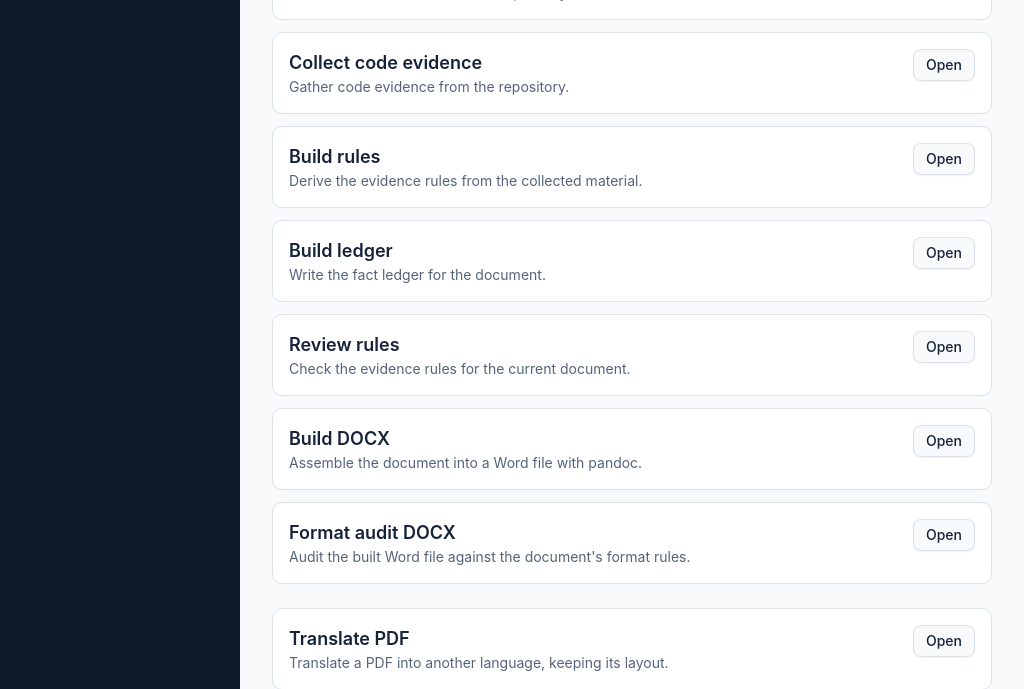
tools area › reviews rules with a strict toggle and lists the issues
The image size is (1024, 689).
(page scrolled)
Click the button "Open" in the row of "Review rules". click: (944,347)
box: [913,331,975,363]
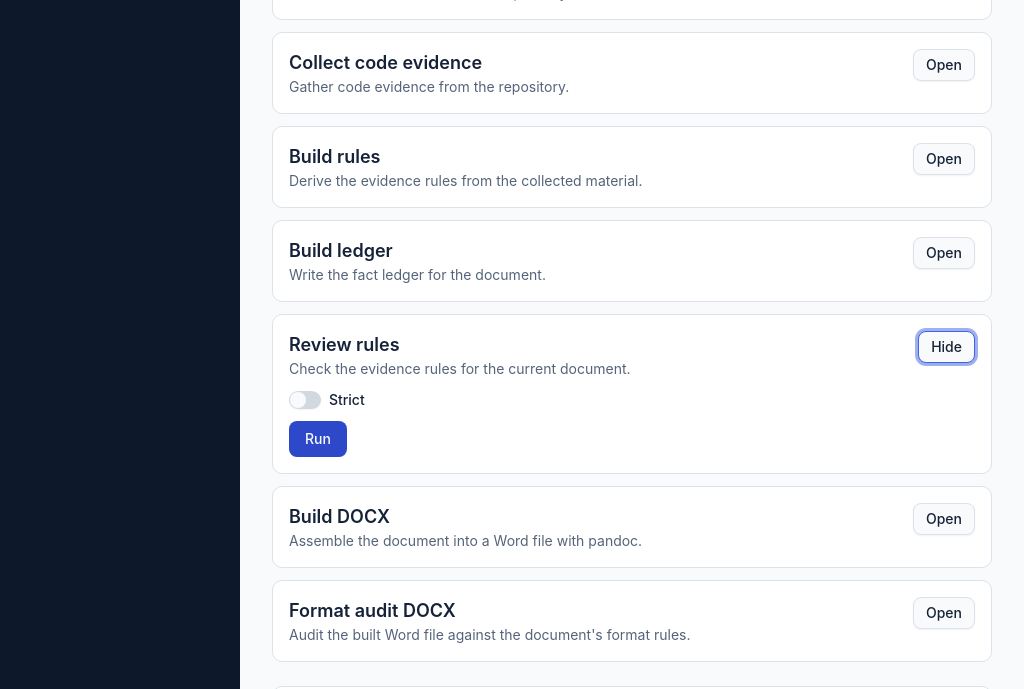
Click the switch named "Strict". click: (305,400)
box: [289,391,321,409]
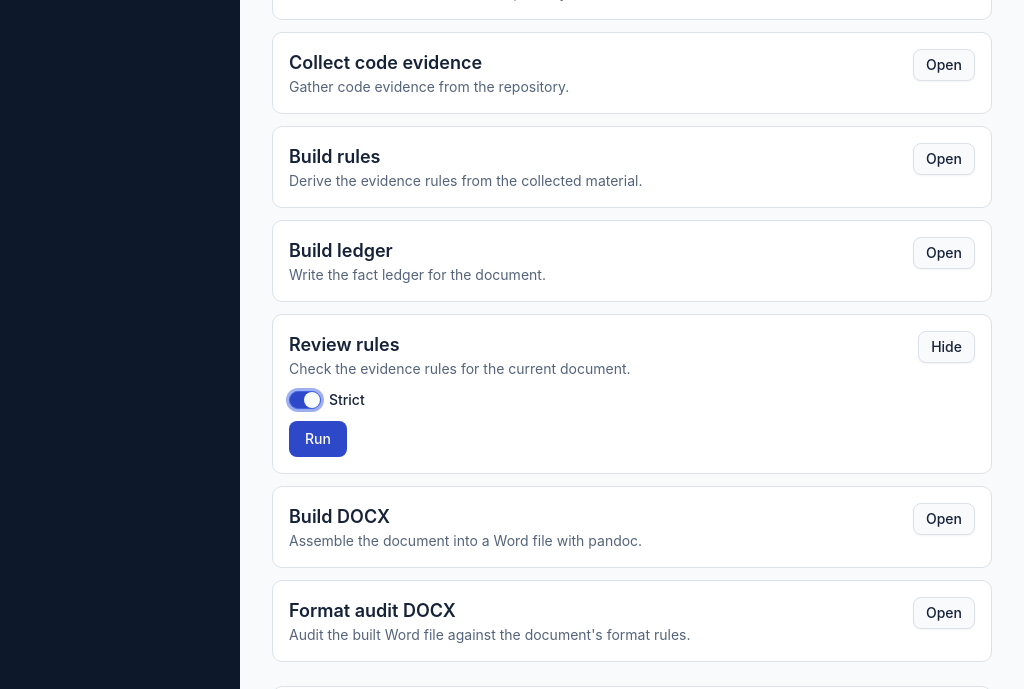
Click the button with aria-label "Run Review rules". click: (318,439)
box: [289,421,347,457]
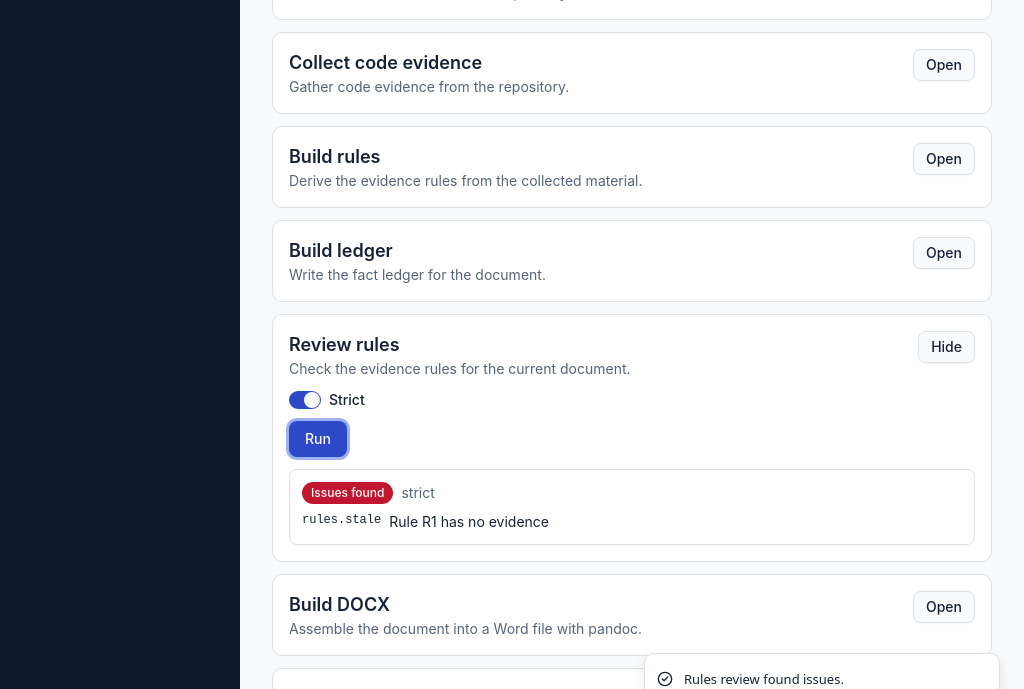
Expected: the message named "Result" shows "Issues found", [311,485,384,500]
Expected: the message named "Result" shows "Rule R1 has no evidence", [389,513,549,530]
